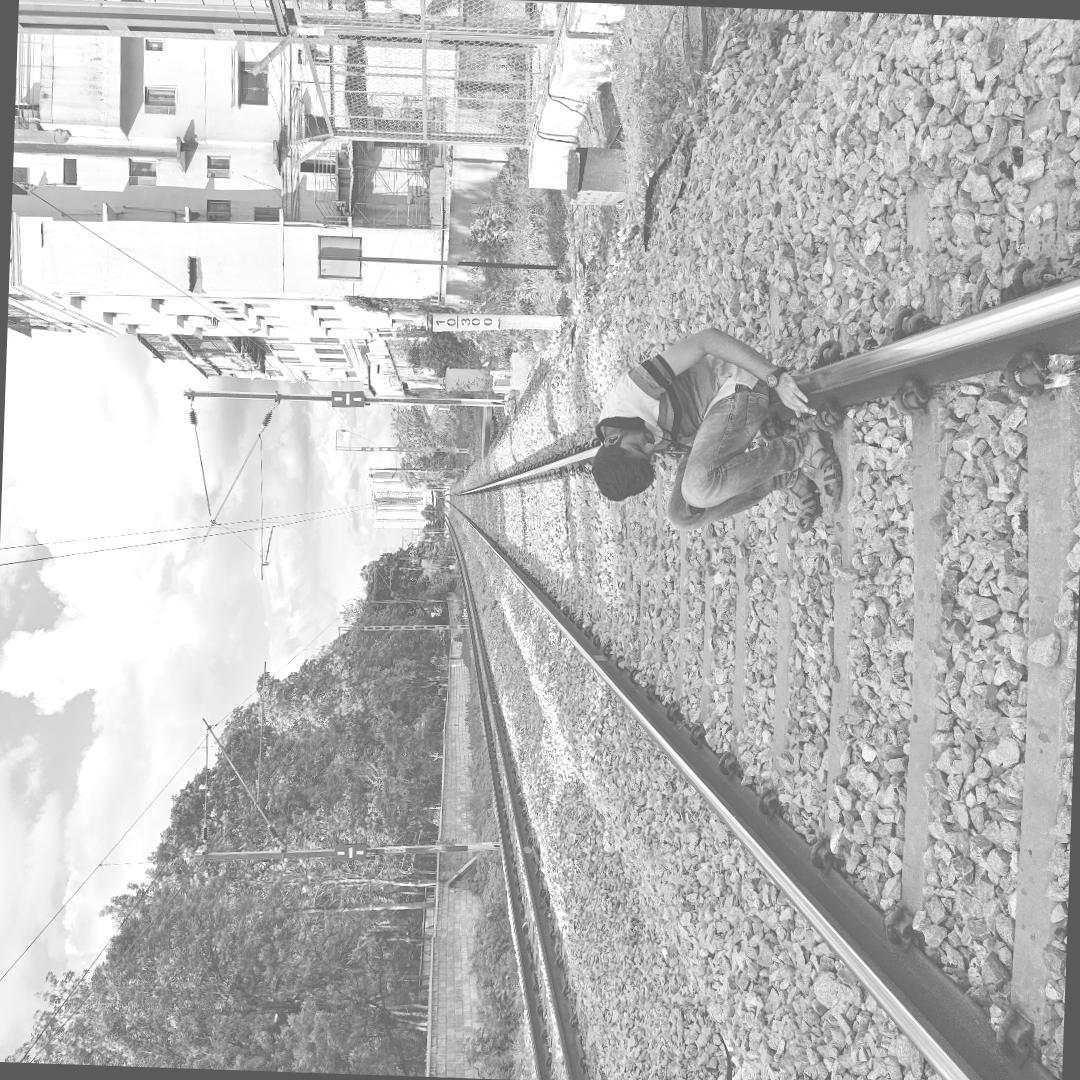sitting: (576, 323, 840, 542)
